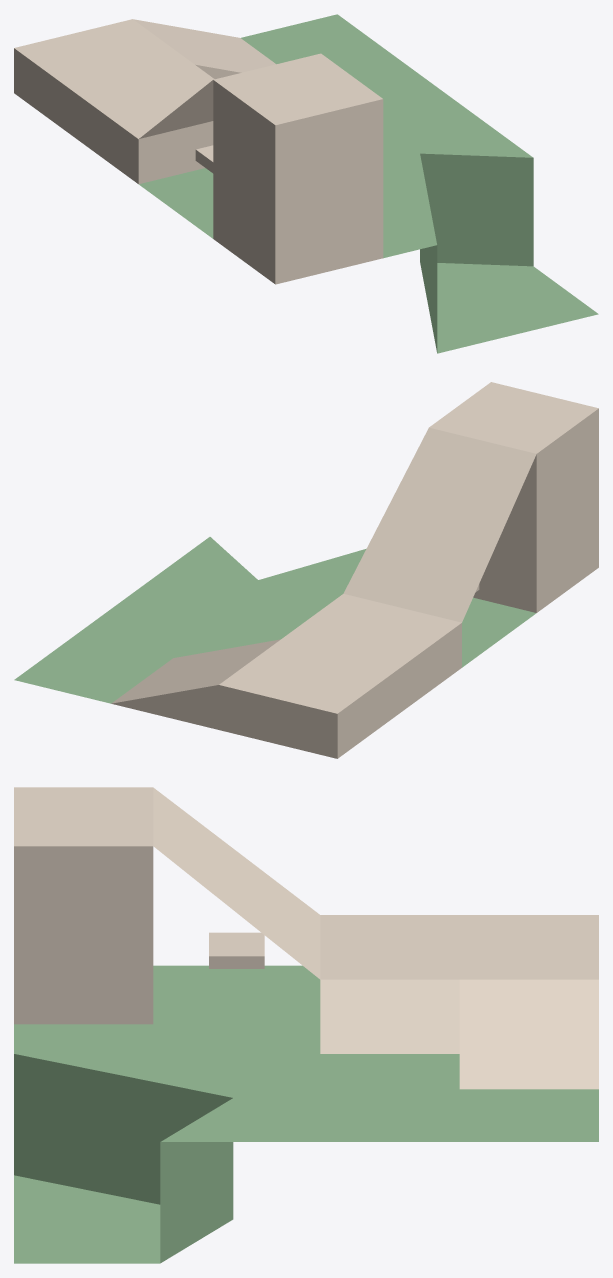
The model's file is character_controller2.glb.
3 renders of one model, top to bottom at view 1: azimuth 30°, elevation 25°; view 2: azimuth 150°, elevation 25°; view 3: azimuth 270°, elevation 25°, orthographic. The views are drawn at different scales.
Visible parts, largest first — view 1: Platform.001, Ground, Ramp.001; view 2: Platform.001, Ground, Ramp.001; view 3: Ground, Platform.001, Ramp.001, Ramp, FloatingPlatform.
Part boxes in pixels (left/top/right/bottom): Platform.001: left=14, top=19, right=383, bottom=284; Ground: left=139, top=14, right=598, bottom=353; Ramp.001: left=133, top=19, right=275, bottom=79; Platform.001: left=219, top=382, right=598, bottom=758; Ground: left=14, top=537, right=536, bottom=703; Ramp.001: left=111, top=639, right=280, bottom=729; Ground: left=14, top=965, right=598, bottom=1263; Platform.001: left=14, top=787, right=598, bottom=1024; Ramp.001: left=459, top=979, right=598, bottom=1089; Ramp: left=320, top=979, right=459, bottom=1053; FloatingPlatform: left=209, top=932, right=264, bottom=968.
Size of the model in its own units: 15 by 11.87 by 21.
